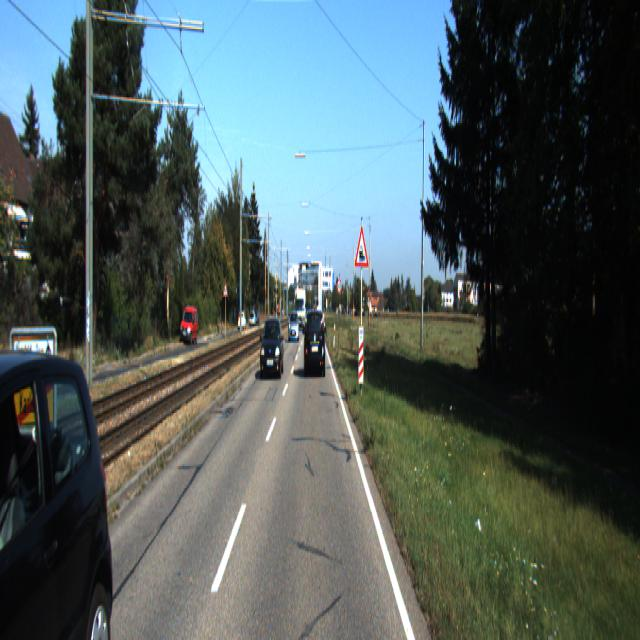Car: (0, 336, 137, 638), (260, 312, 286, 379), (305, 308, 326, 378), (180, 306, 198, 348), (288, 308, 300, 341)
